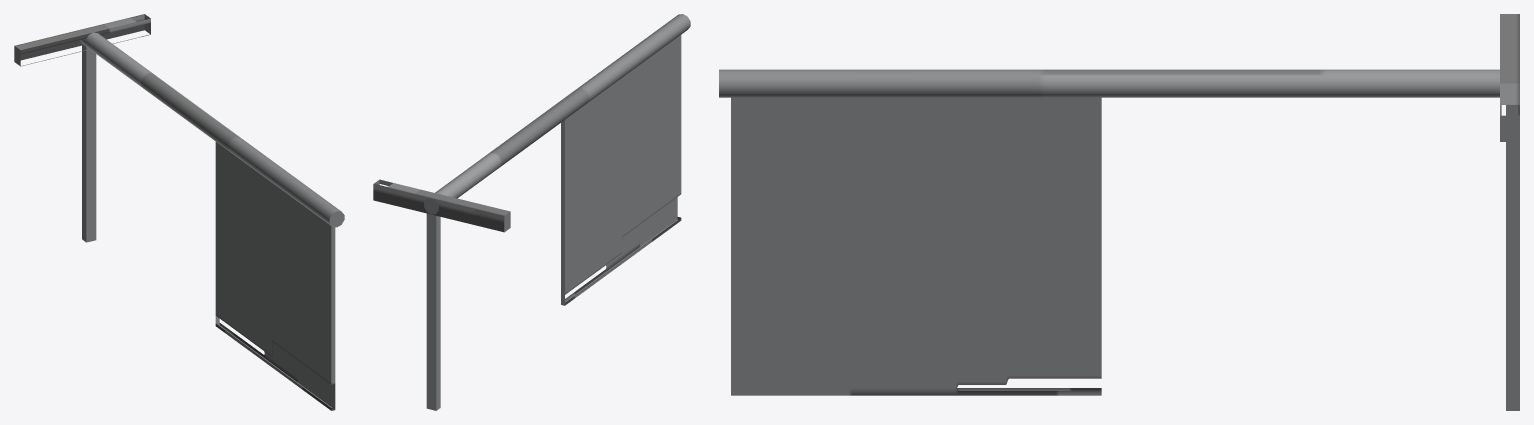
3 renders of one model, left to right at view 1: azimuth 30°, elevation 25°; view 2: azimuth 150°, elevation 25°; view 3: azimuth 270°, elevation 25°, orthographic. The views are drawn at different scales.
Size of the model in its own units: 0.5923 by 0.9132 by 1.97.
